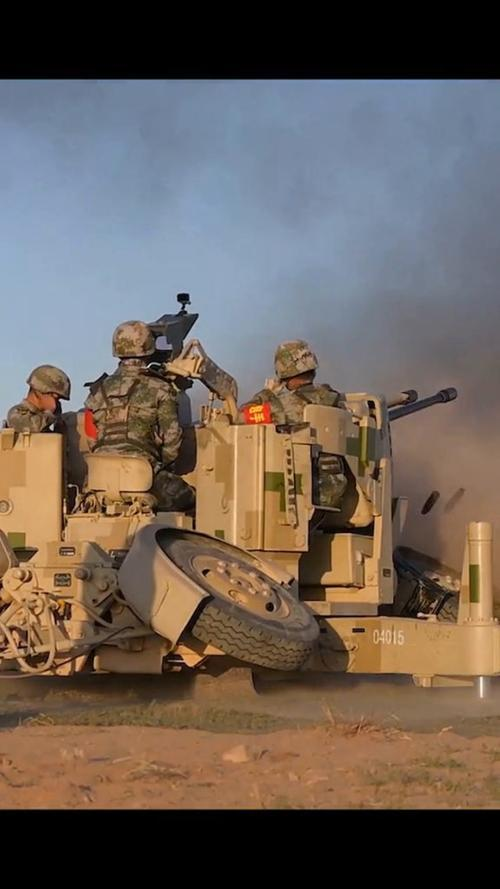MIL_SPG: (0, 389, 500, 683)
